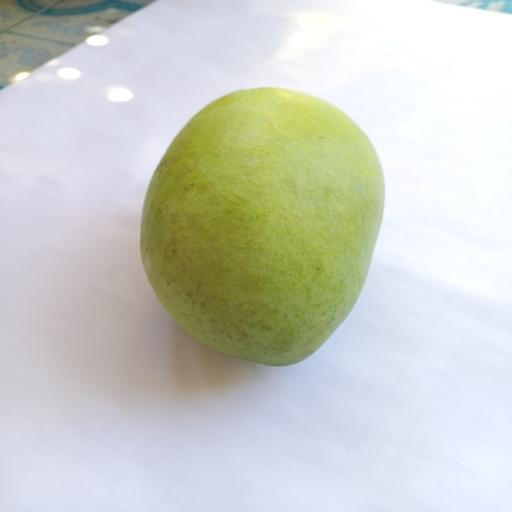mango-unripe: (124, 71, 404, 389)
